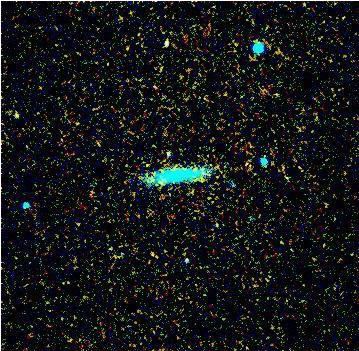star: (132, 148, 162, 178)
